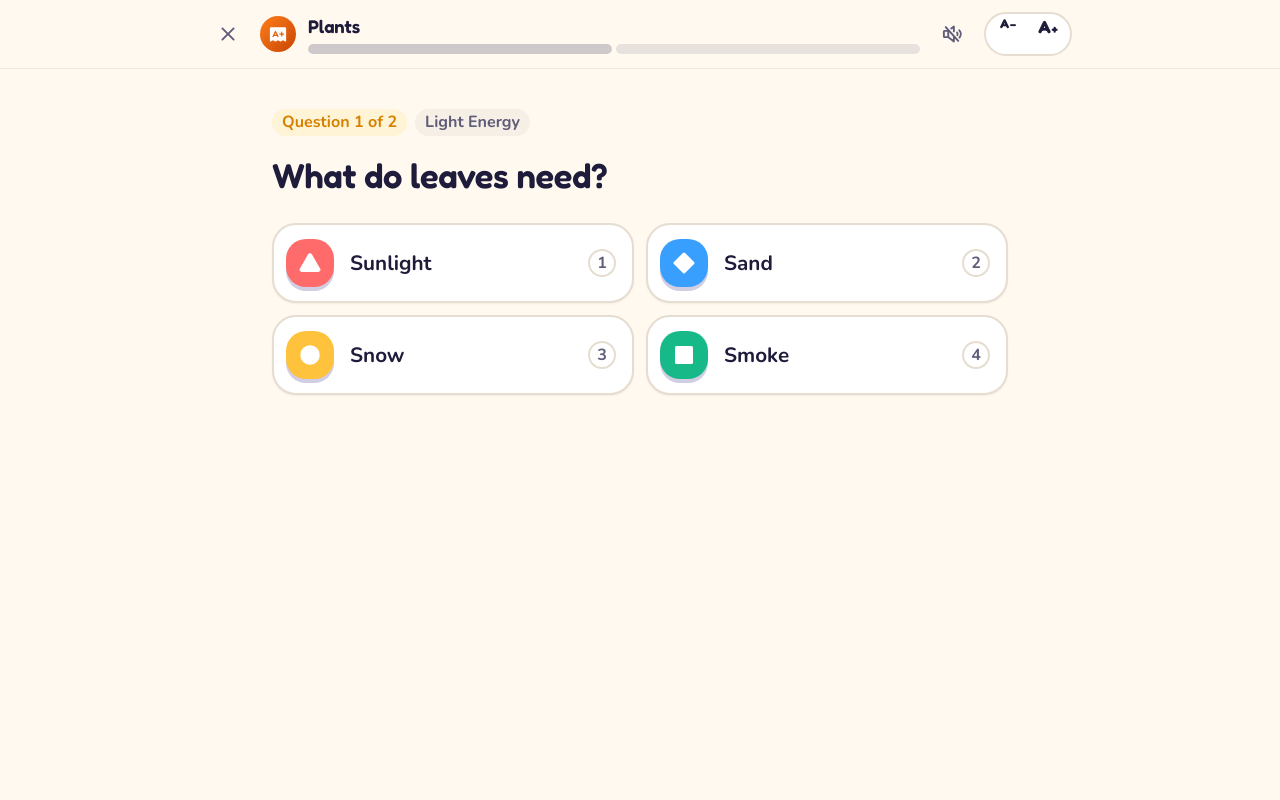
Test: second chance (§28.3.7) › is not offered after a right answer, or in a test
Click the button "Sunlight 1" at [310, 263], box [272, 223, 634, 303]
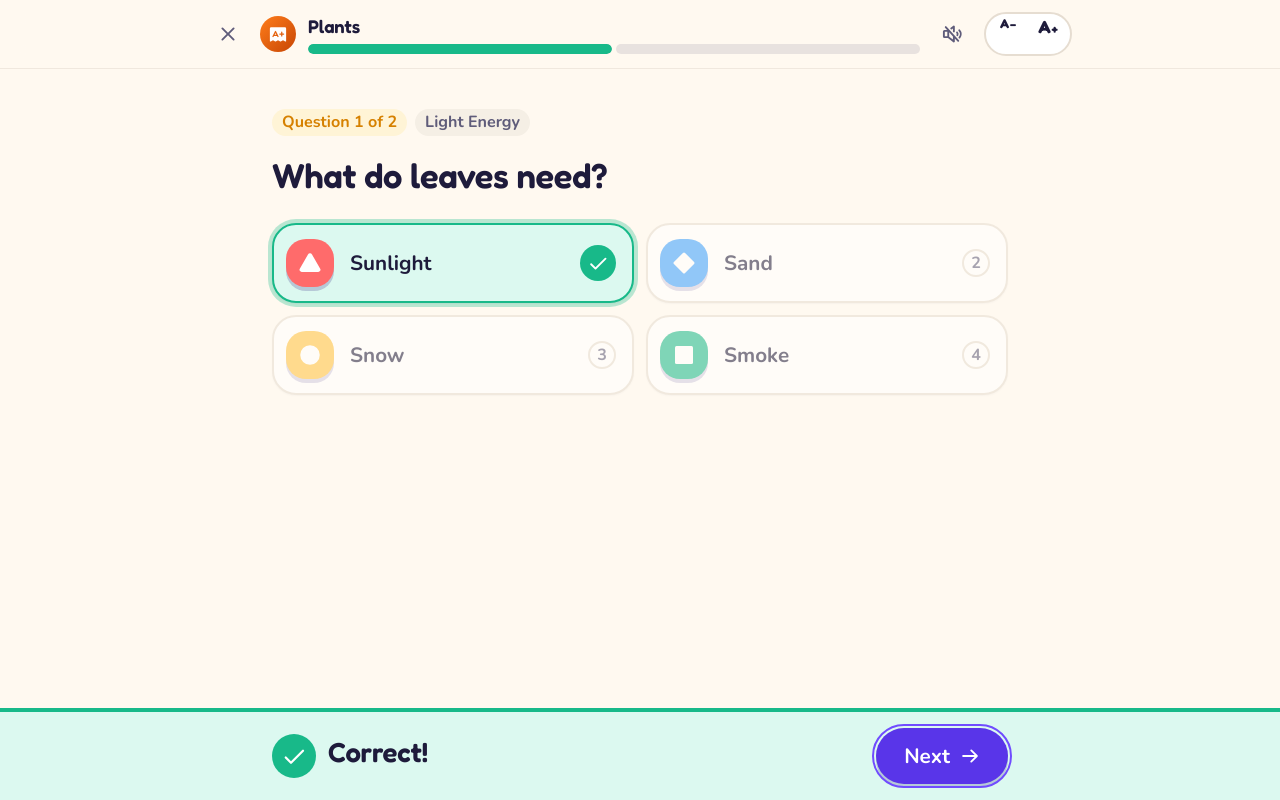
Result: the text "Correct!" is shown at [328, 734, 428, 771]
